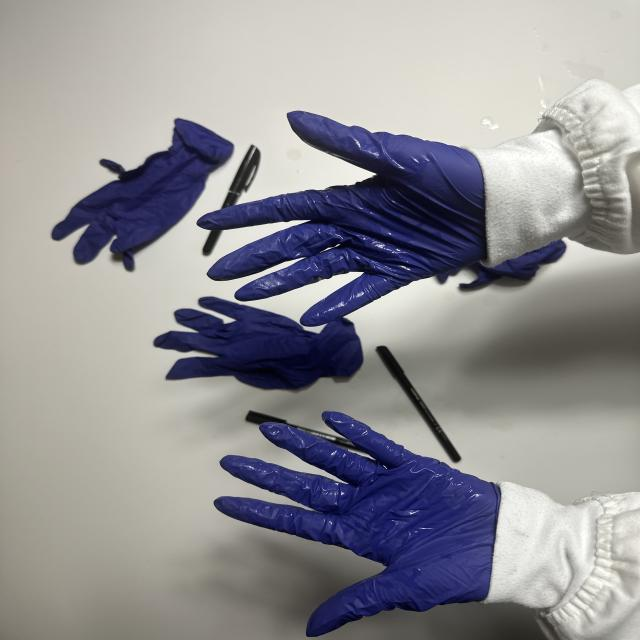gloves_contaminated: (215, 411, 501, 636), (199, 112, 486, 326)
